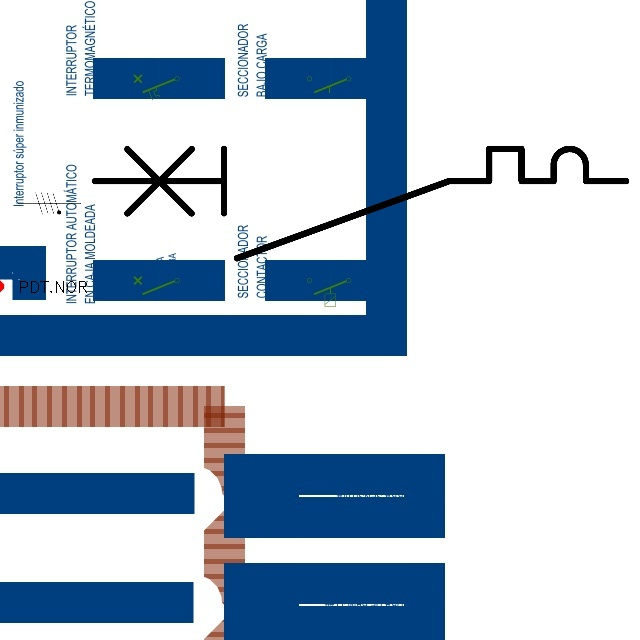interruptor_termomagnetico: (81, 135, 640, 272)
